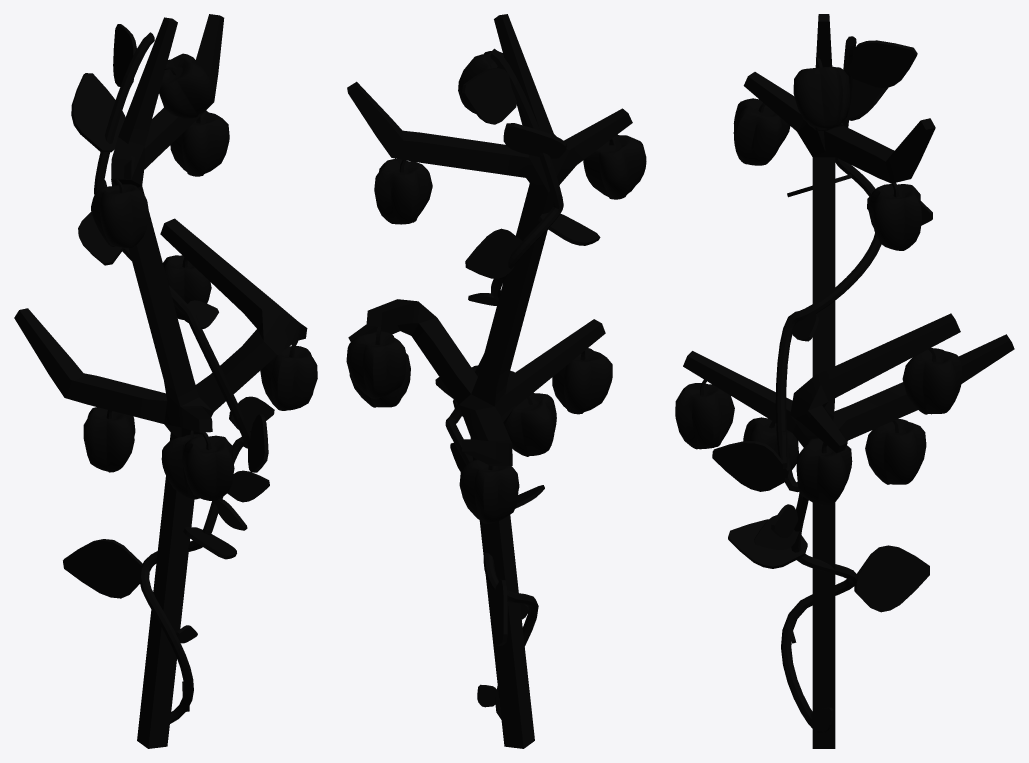
The model's file is PepperBush_1.fbx.
3 renders of one model, left to right at view 1: azimuth 30°, elevation 25°; view 2: azimuth 150°, elevation 25°; view 3: azimuth 270°, elevation 25°, orthographic. The views are drawn at different scales.
Parts seen in each view (by area): view 1: PepperBush_1, Pepper_1_Green.001, Pepper_2_Red.002, Pepper_2_Red.003, Pepper_3_Yellow.002, Pepper_2_Red.001, Pepper_3_Yellow.001, Pepper_2_Red.004, Pepper_1_Green.002; view 2: PepperBush_1, Pepper_2_Red.004, Pepper_3_Yellow.001, Pepper_3_Yellow.002, Pepper_1_Green.001, Pepper_2_Red.002, Pepper_1_Green.002, Pepper_2_Red.001, Pepper_2_Red.003; view 3: PepperBush_1, Pepper_2_Red.002, Pepper_3_Yellow.002, Pepper_2_Red.004, Pepper_2_Red.001, Pepper_3_Yellow.001, Pepper_2_Red.003, Pepper_1_Green.001, Pepper_1_Green.002.
Part boxes in pixels (<box>): PepperBush_1: <box>14,14,307,748</box>; Pepper_1_Green.001: <box>91,179,148,248</box>; Pepper_2_Red.002: <box>182,432,234,501</box>; Pepper_2_Red.003: <box>260,340,317,410</box>; Pepper_3_Yellow.002: <box>83,407,135,472</box>; Pepper_2_Red.001: <box>159,53,213,118</box>; Pepper_3_Yellow.001: <box>170,110,229,176</box>; Pepper_2_Red.004: <box>163,255,211,320</box>; Pepper_1_Green.002: <box>161,430,202,499</box>; PepperBush_1: <box>347,14,632,748</box>; Pepper_2_Red.004: <box>346,327,406,398</box>; Pepper_3_Yellow.001: <box>374,158,432,224</box>; Pepper_3_Yellow.002: <box>459,459,519,523</box>; Pepper_1_Green.001: <box>583,134,646,199</box>; Pepper_2_Red.002: <box>552,348,612,414</box>; Pepper_1_Green.002: <box>504,392,556,456</box>; Pepper_2_Red.001: <box>458,51,503,113</box>; Pepper_2_Red.003: <box>349,353,410,407</box>; PepperBush_1: <box>683,14,1014,748</box>; Pepper_2_Red.002: <box>675,379,734,449</box>; Pepper_3_Yellow.002: <box>865,418,926,484</box>; Pepper_2_Red.004: <box>902,348,962,414</box>; Pepper_2_Red.001: <box>793,57,849,130</box>; Pepper_3_Yellow.001: <box>868,182,922,250</box>; Pepper_2_Red.003: <box>796,438,852,505</box>; Pepper_1_Green.001: <box>733,98,790,165</box>; Pepper_1_Green.002: <box>743,417,798,469</box>.
Size of the model in its own units: 14.75 by 40.7 by 16.97.
